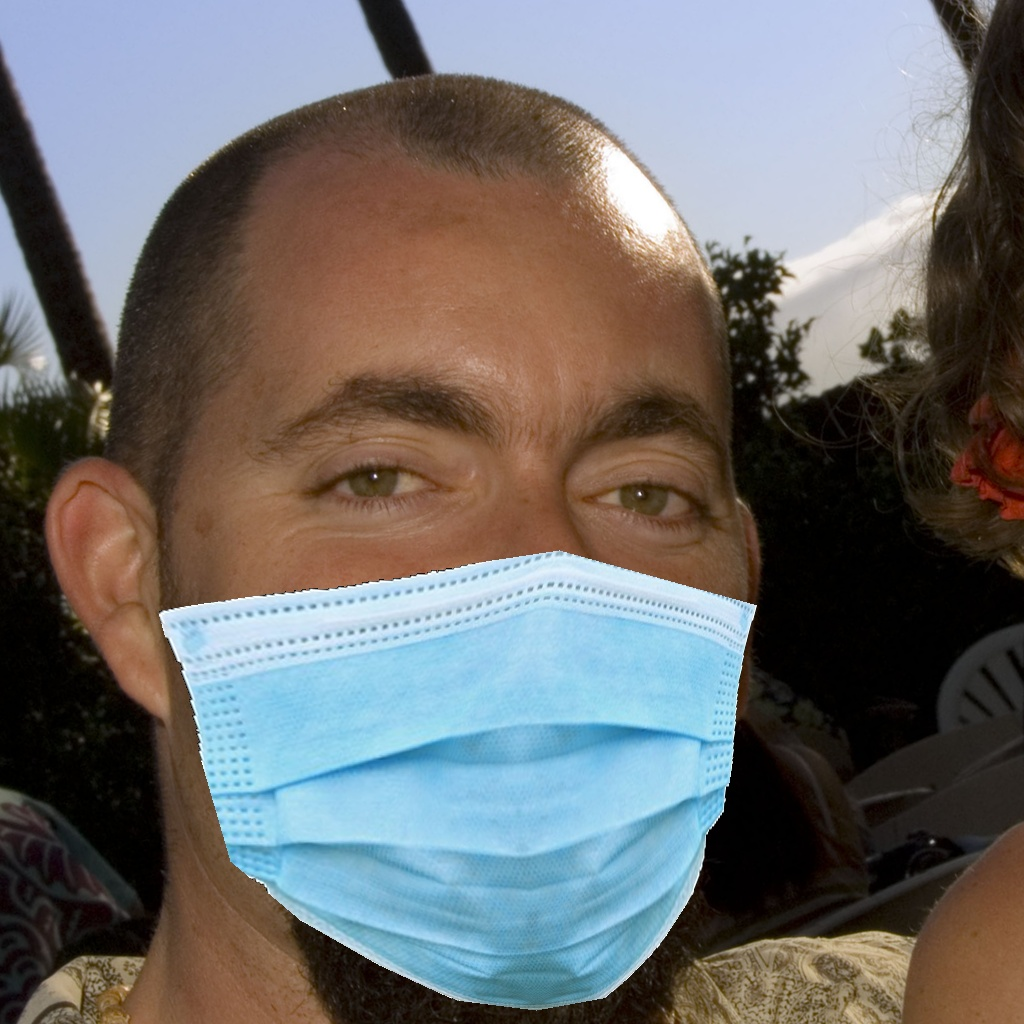Mask: (151, 363, 762, 1015)
